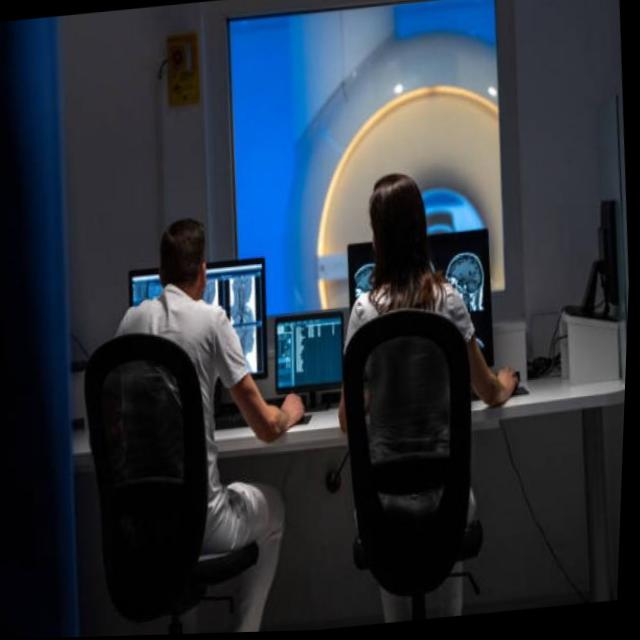no helmet: (362, 162, 449, 302), (134, 208, 238, 318)
